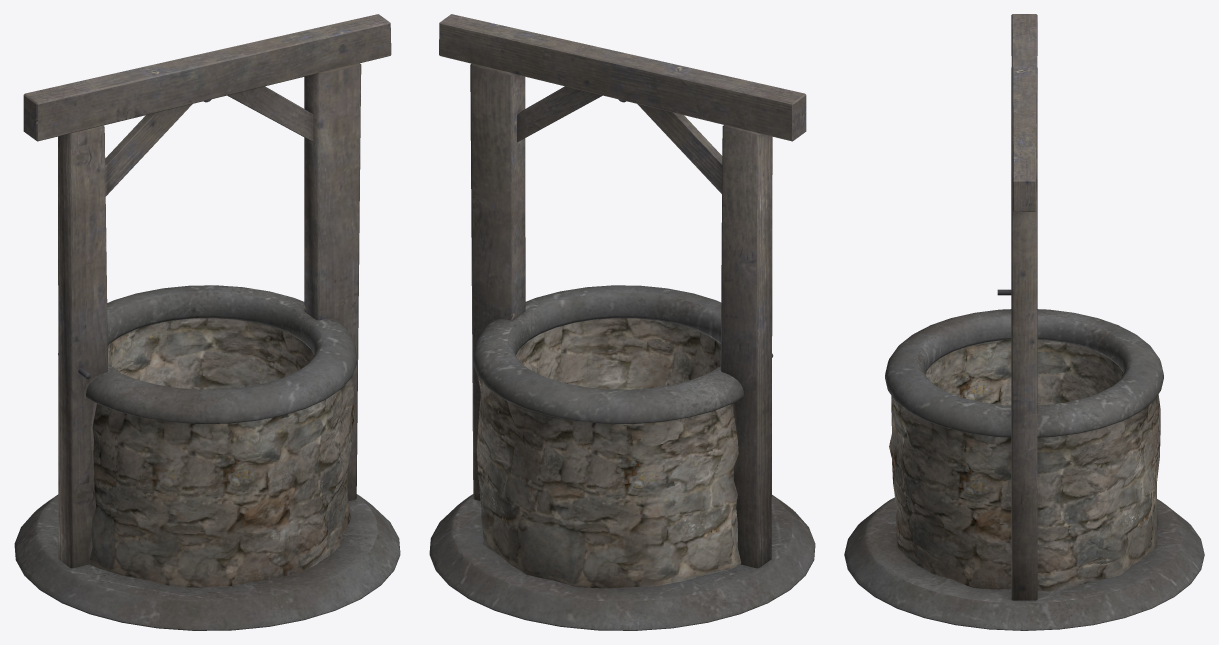
File: vh_well.glb
3 views of the same model, side by side, from view 1: azimuth 30°, elevation 25°; view 2: azimuth 150°, elevation 25°; view 3: azimuth 270°, elevation 25° (orthographic). The views are drawn at different scales.
Parts seen in each view (by area): view 1: well; view 2: well; view 3: well.
Boxes of the visible parts, x1,y1,x2,y2 form: well: [14, 14, 400, 630]; well: [429, 14, 815, 630]; well: [844, 14, 1204, 630].
Size of the model in its own units: 2.06 by 2.74 by 1.94.
1 material, 1 textured.
